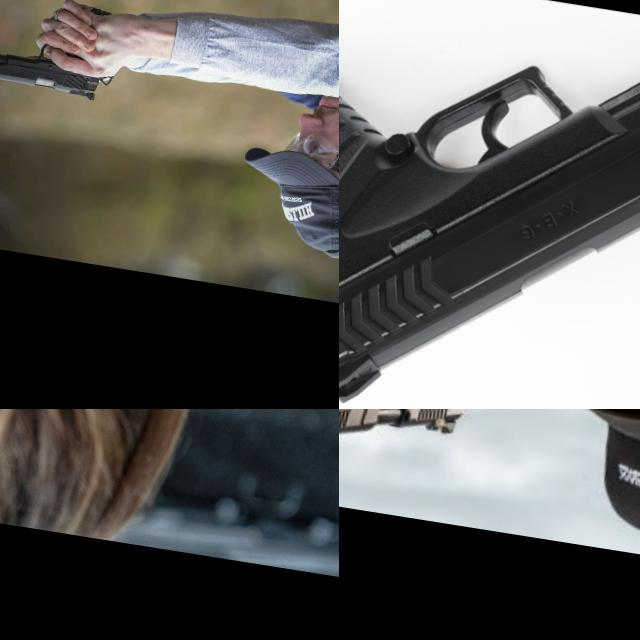handgun: (339, 0, 640, 409), (339, 409, 487, 498), (0, 30, 118, 106)
